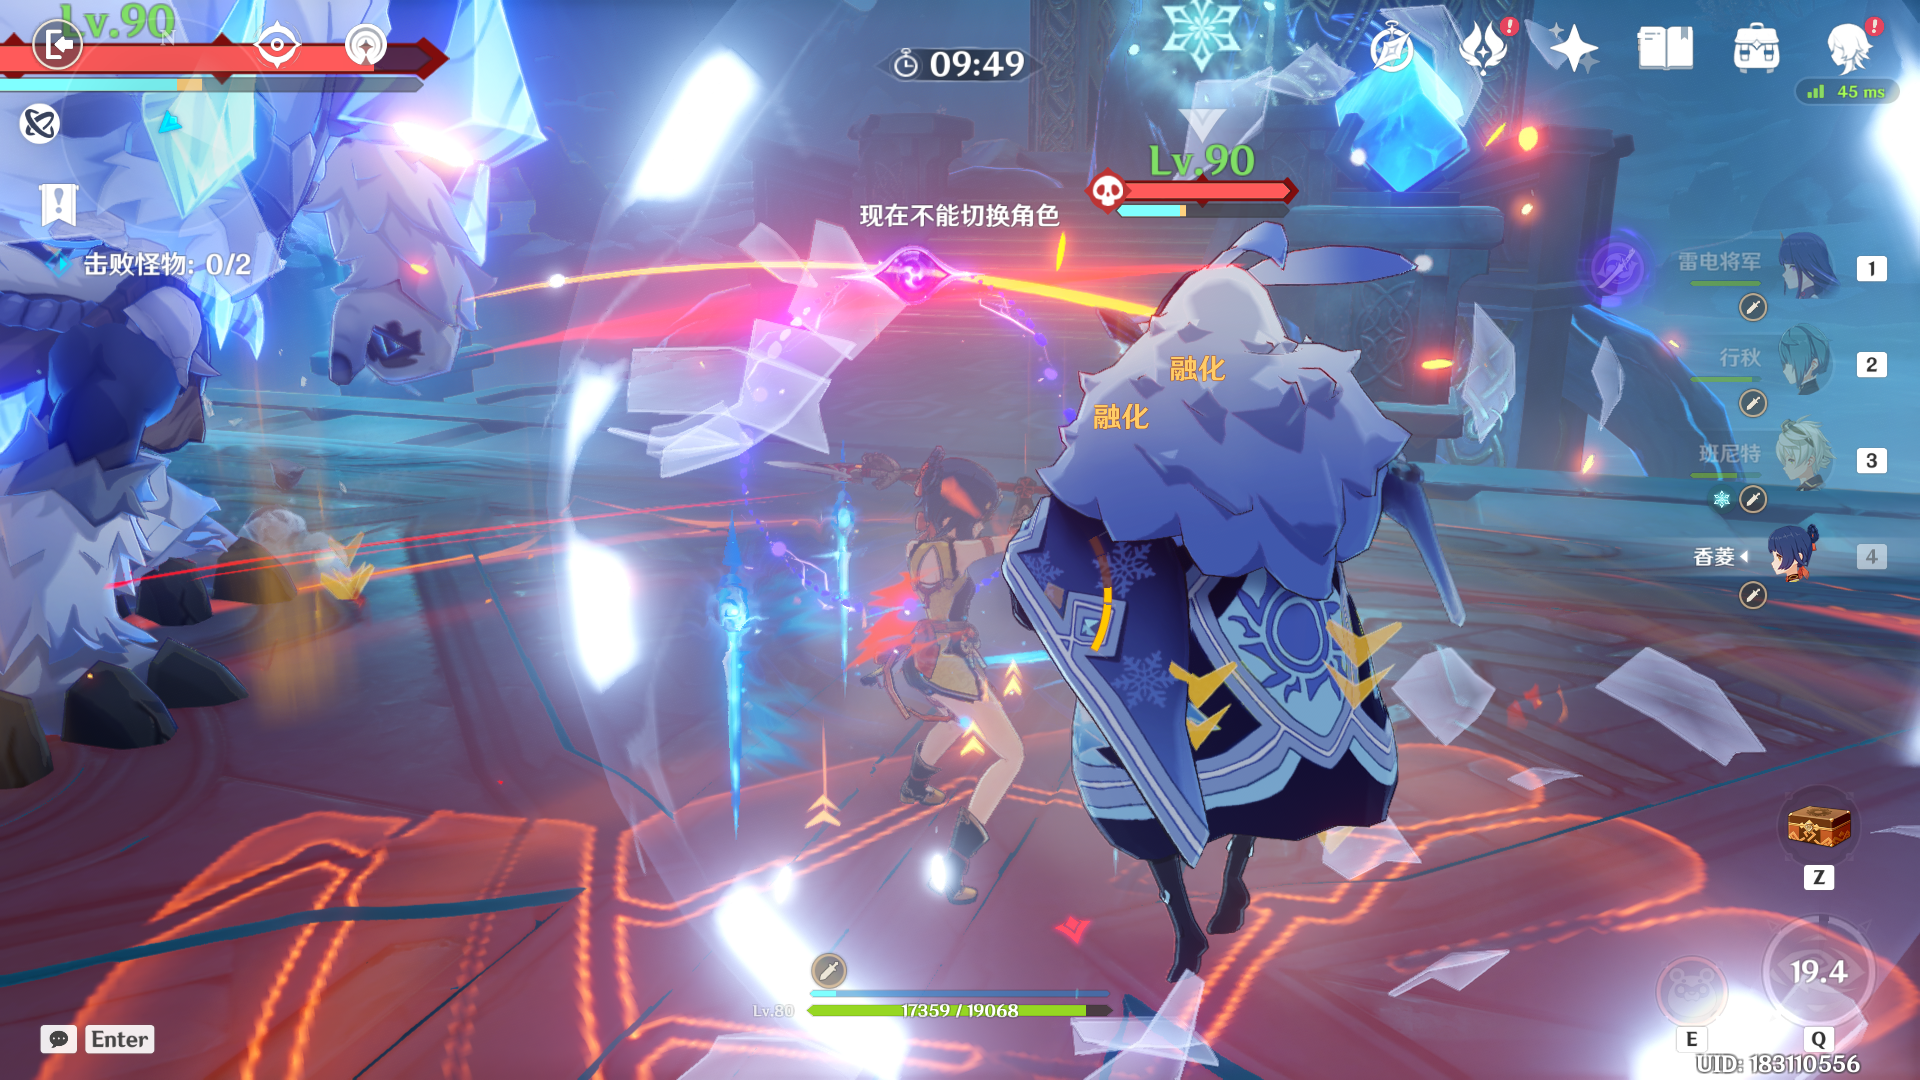caster: (969, 208, 1502, 996)
character: (782, 394, 1098, 906)
